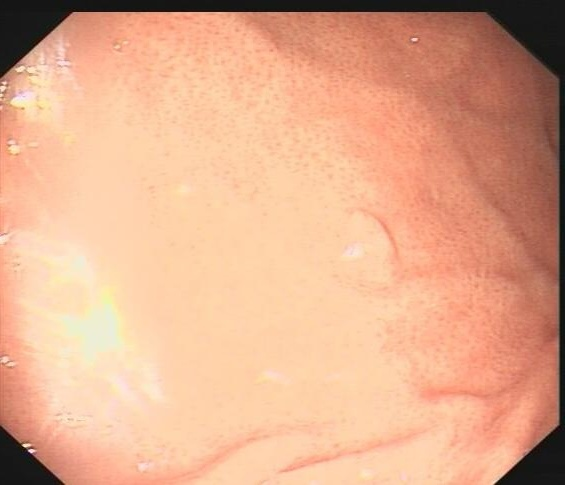Polyp: (327, 204, 393, 282)
